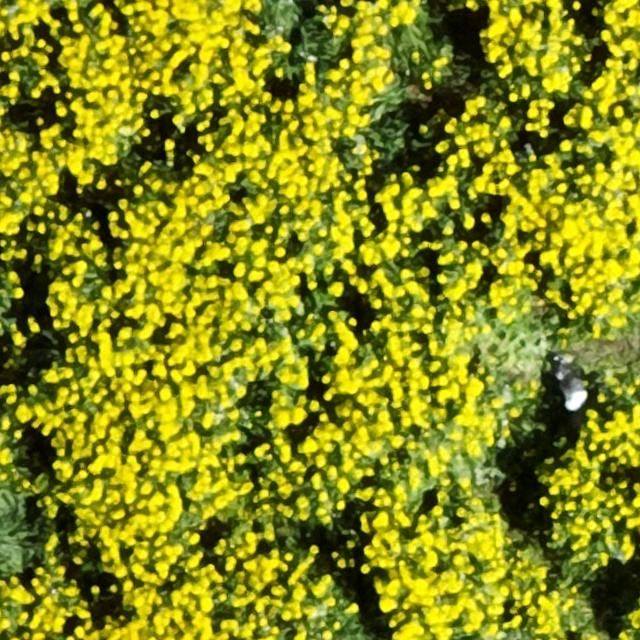umineko: (559, 368, 588, 412)
